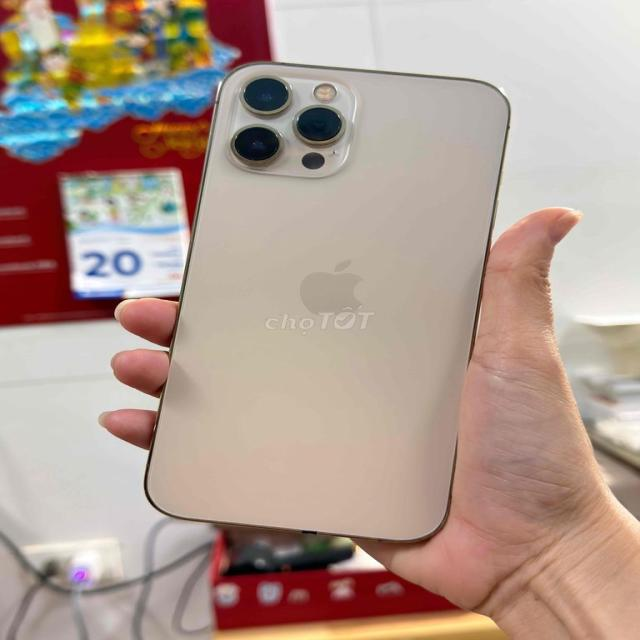gen_12_13: (138, 54, 520, 547)
